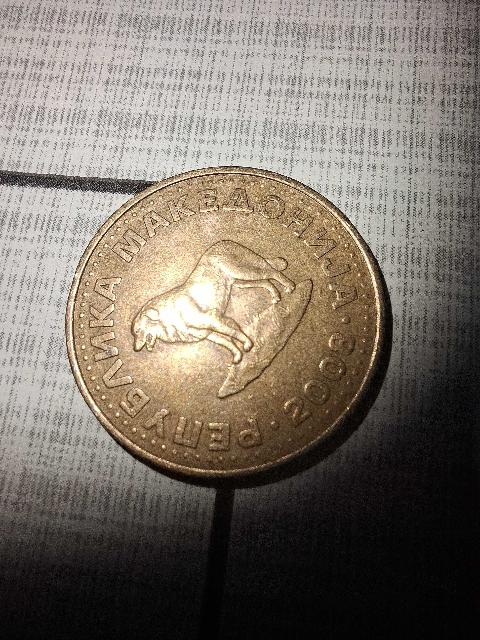1_coin: (66, 167, 384, 477)
